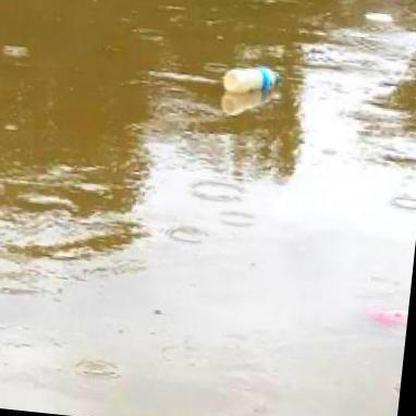plastic bottle: (224, 66, 280, 90)
